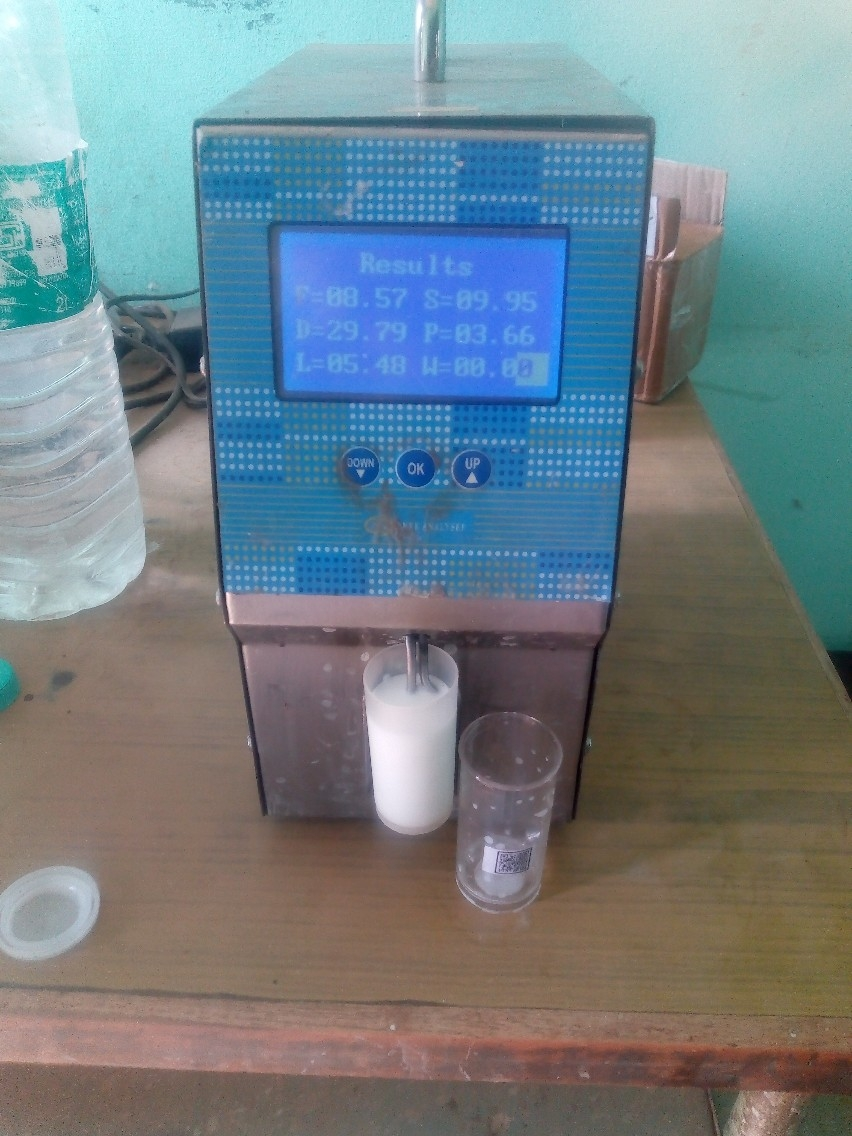lcd: (259, 221, 579, 411)
qr: (485, 838, 545, 894)
